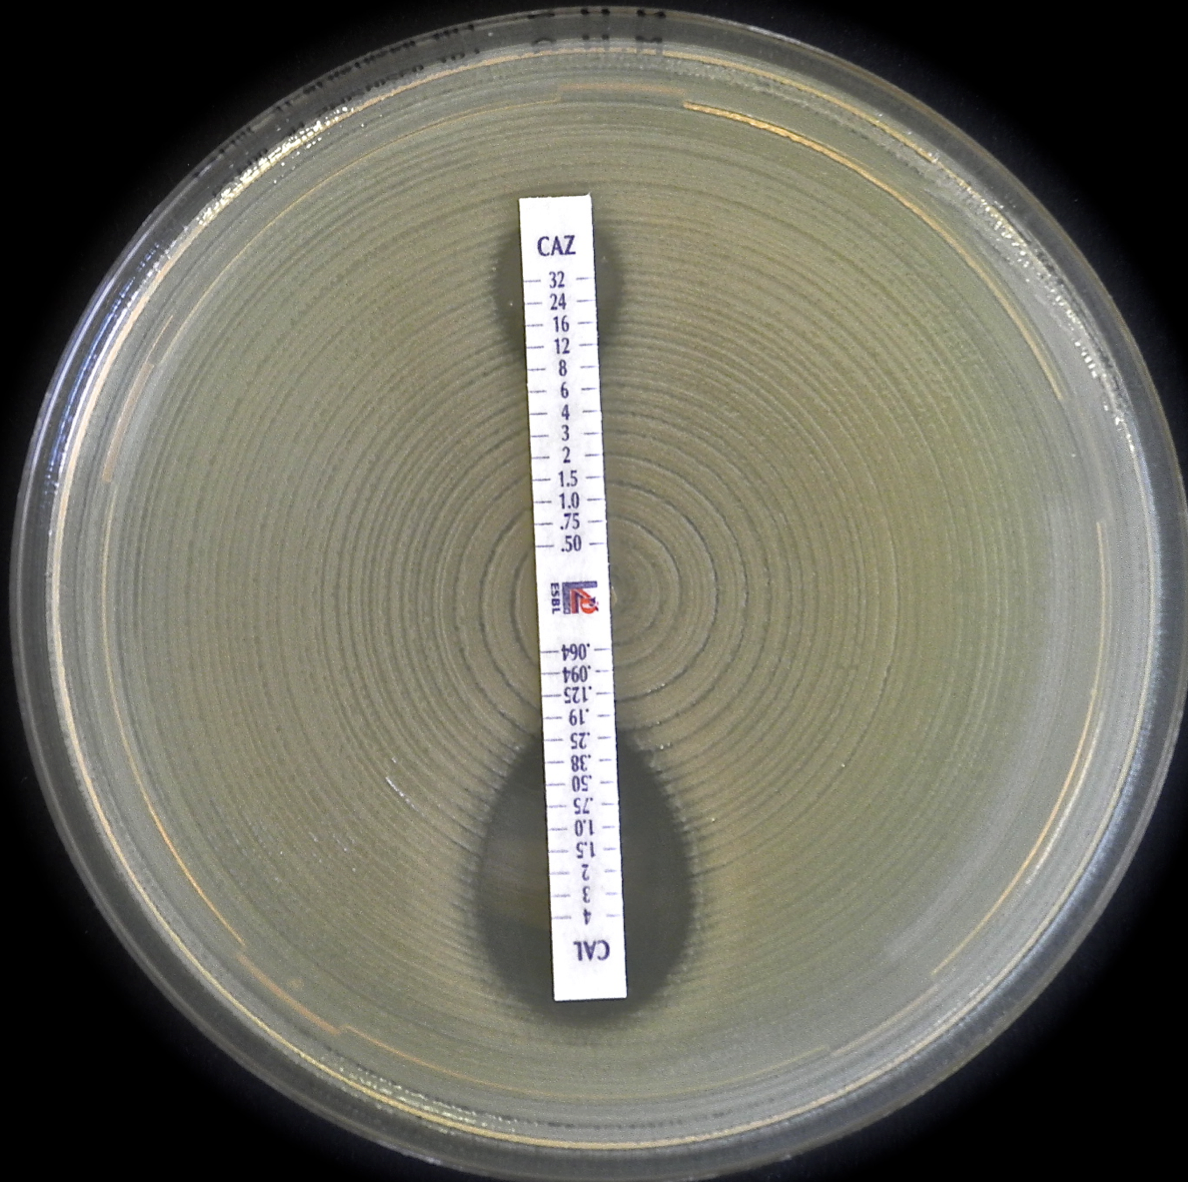line: (518, 195, 609, 563), (538, 633, 628, 1002)
zone: (465, 725, 699, 1030), (489, 223, 626, 358)
